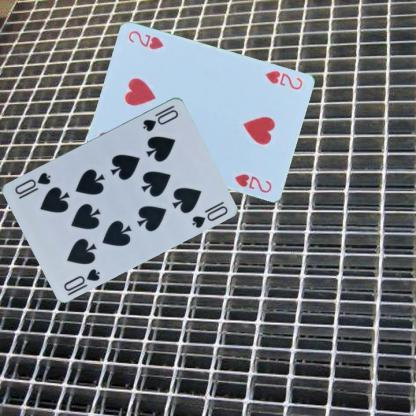10s: (140, 102, 180, 133), (61, 265, 102, 292)
2h: (262, 68, 304, 91)
